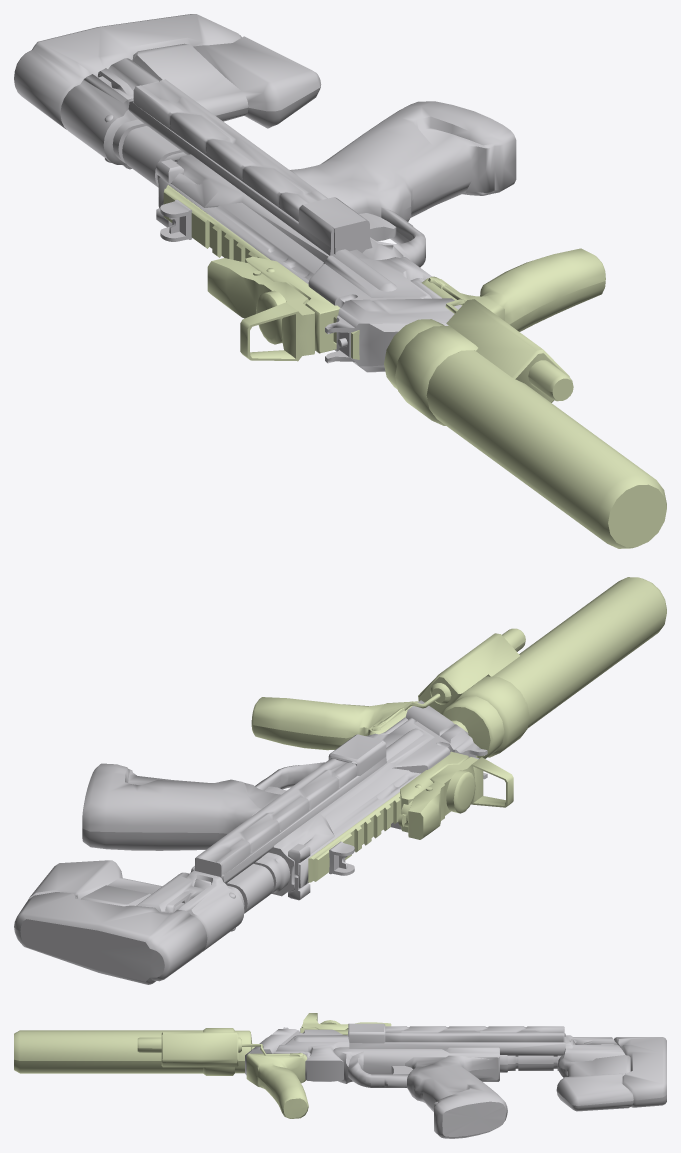
Rendered from M7S_Static.fbx.
The picture shows the model from 3 angles, top to bottom: view 1: azimuth 30°, elevation 25°; view 2: azimuth 150°, elevation 25°; view 3: azimuth 270°, elevation 25°; orthographic projection. The views are drawn at different scales.
Visible parts, largest first — view 1: MainBody; view 2: MainBody; view 3: MainBody.
Part boxes in pixels (bbox=[...]): MainBody: bbox=[14, 14, 666, 548]; MainBody: bbox=[14, 577, 666, 984]; MainBody: bbox=[14, 1013, 666, 1138].
Bounding box in the file's own units: 27.71 × 6.59 × 74.39.
